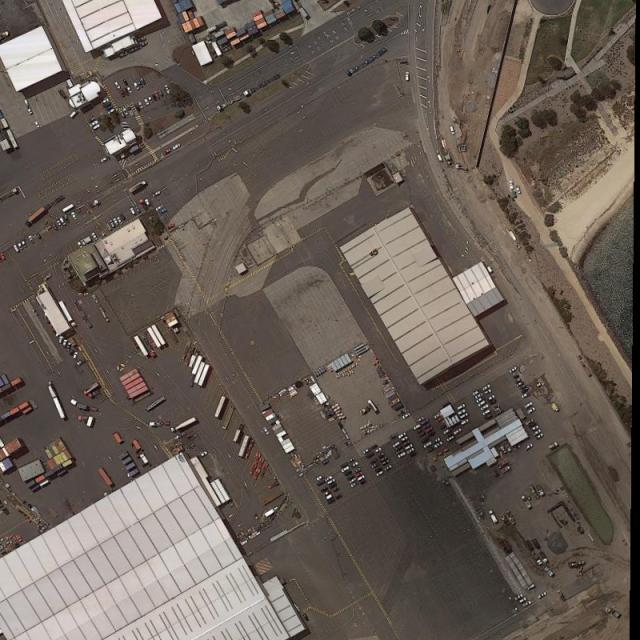vehicle: (128, 181, 148, 193), (487, 510, 498, 525), (522, 401, 534, 411), (126, 106, 136, 118), (528, 420, 539, 430), (172, 142, 182, 152), (100, 96, 110, 106), (104, 103, 114, 113), (526, 406, 537, 415), (531, 428, 542, 437), (534, 433, 545, 442), (56, 219, 65, 230), (122, 107, 131, 118), (132, 102, 141, 113), (547, 441, 558, 450), (163, 84, 171, 96), (518, 382, 527, 392), (154, 203, 164, 212), (152, 190, 162, 199), (50, 222, 59, 232), (350, 480, 360, 489), (365, 451, 375, 460), (315, 473, 325, 482), (327, 497, 337, 506), (150, 91, 159, 101), (102, 100, 112, 109), (418, 418, 429, 426), (362, 447, 373, 455), (154, 90, 162, 101), (521, 393, 533, 400), (71, 210, 78, 222), (509, 366, 518, 375), (525, 443, 534, 452), (537, 590, 546, 599), (514, 593, 523, 602), (480, 403, 489, 412), (34, 230, 43, 239), (389, 431, 398, 440), (522, 600, 532, 608), (442, 428, 452, 436), (460, 418, 470, 426), (456, 409, 466, 417), (456, 403, 466, 411), (405, 447, 415, 455), (328, 482, 338, 490), (137, 100, 145, 110), (118, 87, 126, 97), (140, 77, 148, 87), (13, 243, 20, 254), (123, 87, 130, 98), (137, 78, 144, 89), (473, 389, 482, 397), (490, 398, 499, 406), (525, 418, 534, 426), (423, 422, 432, 430), (482, 383, 491, 391), (91, 233, 99, 242), (159, 206, 168, 214), (166, 222, 175, 230), (88, 115, 97, 123), (90, 120, 99, 128), (59, 217, 67, 226), (346, 473, 354, 482), (374, 446, 383, 454), (370, 457, 378, 466), (371, 461, 380, 469), (402, 441, 411, 449), (341, 466, 350, 474), (357, 474, 366, 482), (355, 470, 364, 478), (317, 478, 326, 486), (402, 412, 411, 420), (339, 462, 348, 470), (92, 123, 101, 131), (114, 80, 122, 89), (146, 94, 154, 103), (198, 450, 207, 458), (69, 110, 78, 118), (434, 441, 444, 448), (458, 413, 468, 420), (416, 415, 426, 422), (162, 147, 172, 154), (28, 235, 35, 245), (394, 448, 404, 455), (515, 184, 522, 194), (331, 486, 341, 493), (133, 81, 140, 91), (512, 373, 520, 381), (516, 380, 524, 388), (474, 392, 482, 400), (426, 446, 434, 454), (425, 426, 433, 434), (487, 394, 495, 402), (354, 466, 362, 474), (520, 387, 529, 394), (530, 425, 539, 432), (476, 396, 485, 403), (423, 442, 432, 449), (483, 389, 492, 396), (518, 597, 527, 604), (76, 240, 83, 249), (34, 120, 41, 129), (27, 106, 34, 115), (63, 214, 70, 223), (397, 452, 406, 459), (376, 471, 385, 478), (403, 443, 412, 450), (327, 478, 336, 485), (320, 487, 329, 494), (347, 456, 356, 463), (119, 110, 126, 119), (143, 97, 150, 106), (453, 428, 463, 434), (112, 217, 118, 227), (22, 239, 28, 249), (343, 470, 353, 476), (383, 465, 393, 471), (450, 125, 456, 135), (437, 154, 443, 164), (158, 88, 164, 98), (514, 377, 522, 384), (528, 584, 536, 591), (434, 412, 442, 419), (436, 415, 444, 422), (117, 217, 124, 225), (120, 214, 127, 222), (122, 78, 129, 86), (126, 86, 133, 94), (405, 71, 410, 82), (509, 179, 514, 190), (446, 436, 455, 442), (482, 410, 491, 416), (413, 424, 422, 430), (397, 433, 406, 439), (335, 494, 344, 500), (66, 342, 72, 351), (77, 359, 86, 365), (130, 206, 135, 216), (63, 339, 68, 349), (392, 442, 399, 449), (325, 475, 332, 482), (351, 462, 358, 469), (478, 401, 486, 407), (24, 98, 30, 106), (18, 242, 24, 250), (350, 476, 356, 484), (382, 460, 390, 466), (394, 446, 402, 452), (145, 198, 151, 206), (1, 253, 6, 262), (401, 436, 408, 442), (101, 157, 108, 163), (110, 218, 114, 228), (136, 206, 141, 214), (380, 457, 388, 462), (73, 351, 78, 359), (58, 336, 62, 345), (433, 438, 440, 443), (82, 240, 86, 246)
